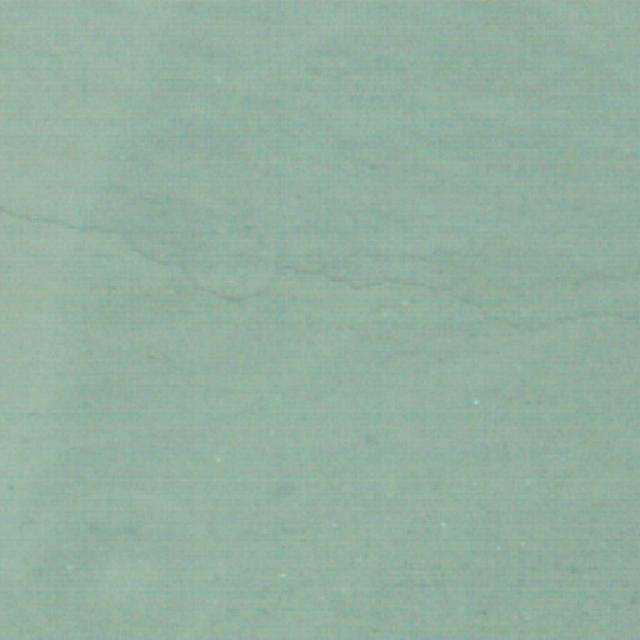Transverse: (0, 185, 629, 360)
